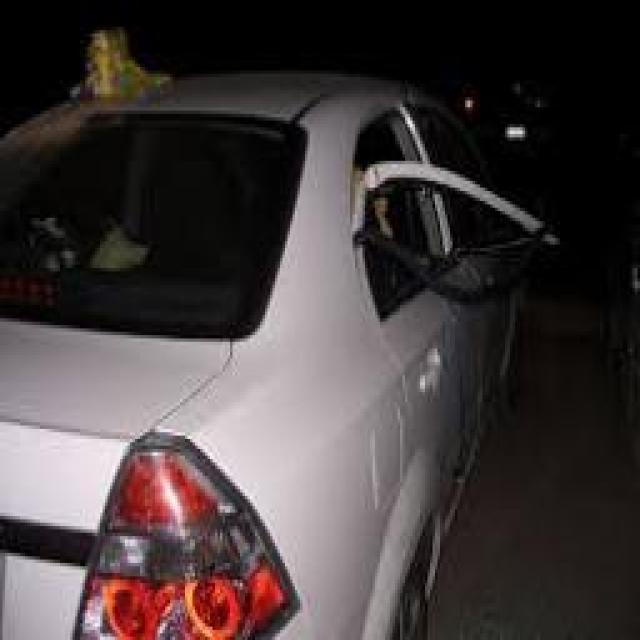replaceable: (358, 150, 548, 288)
